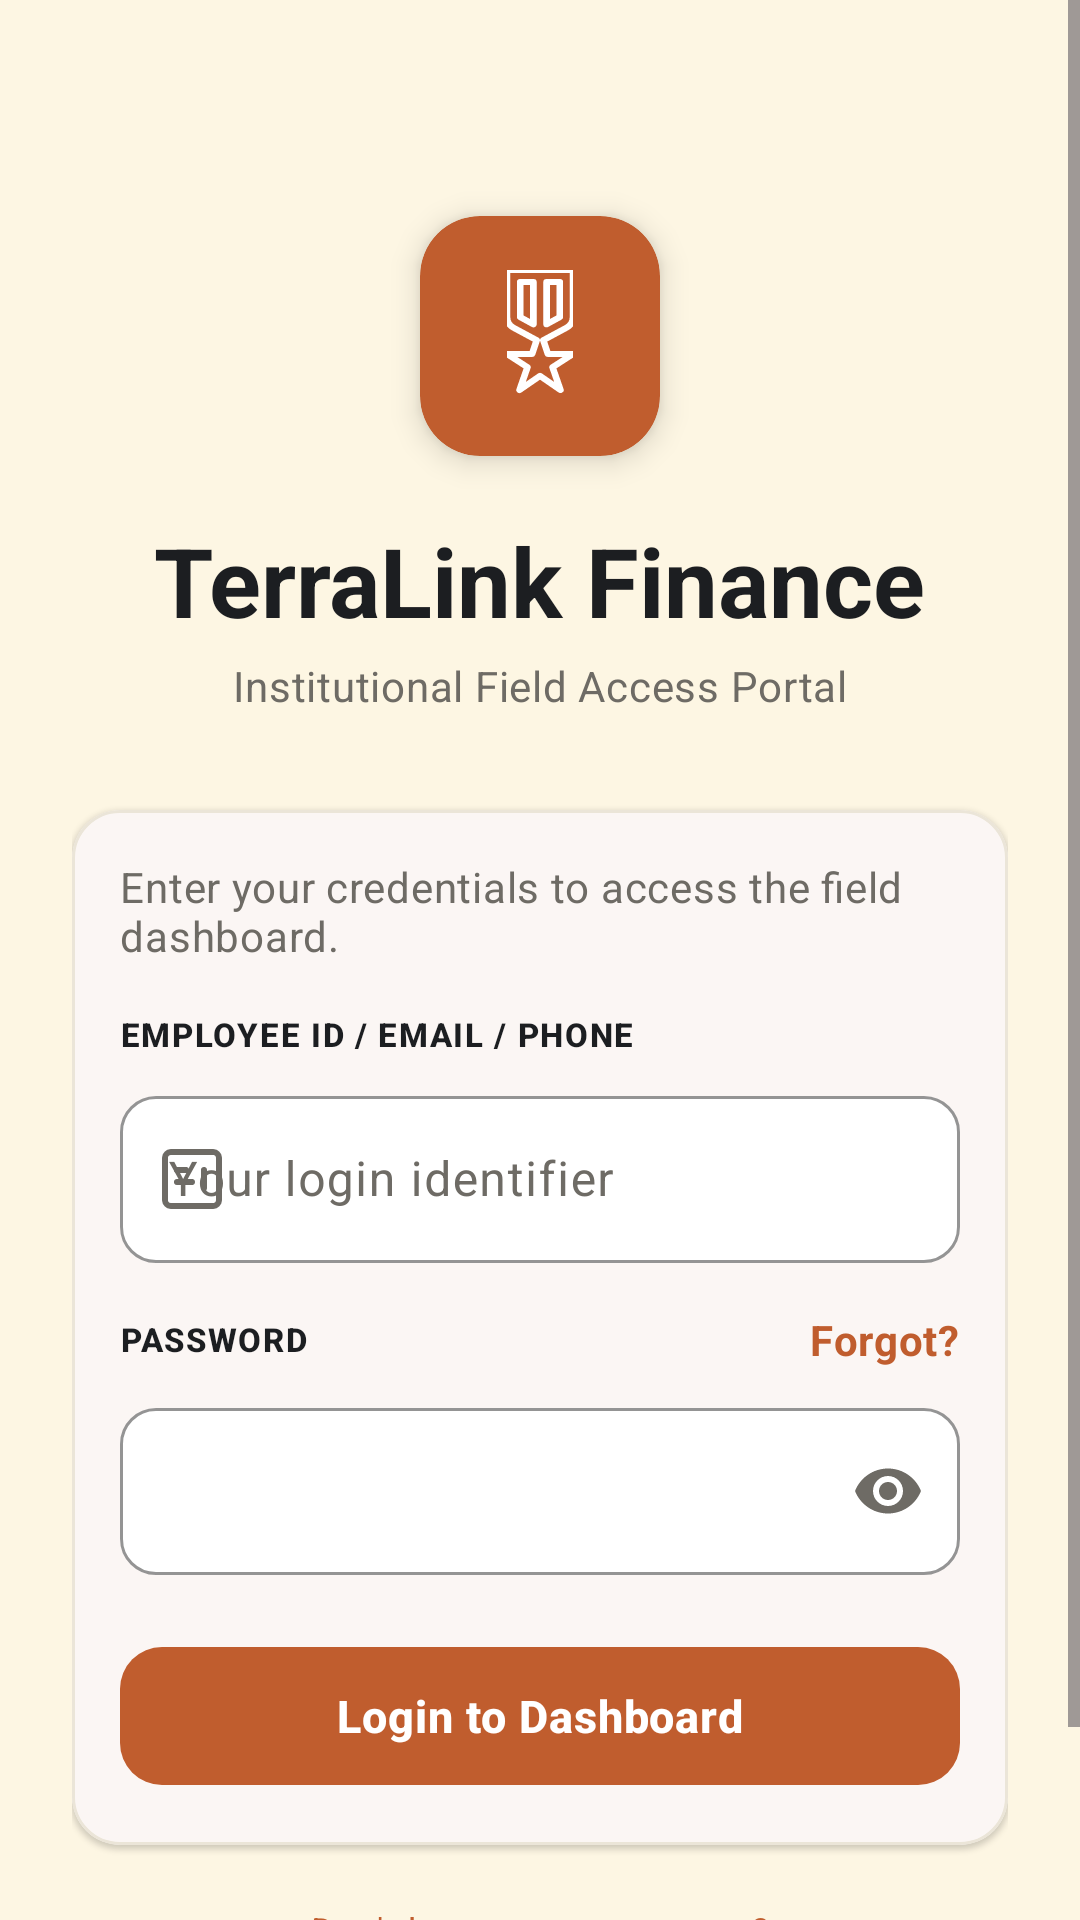

Screen size 1080w x 1920h. Icon name, then its box in pixels as box=[x1, y1, x2, y2]:
shield stars: box=[507, 270, 573, 394]
